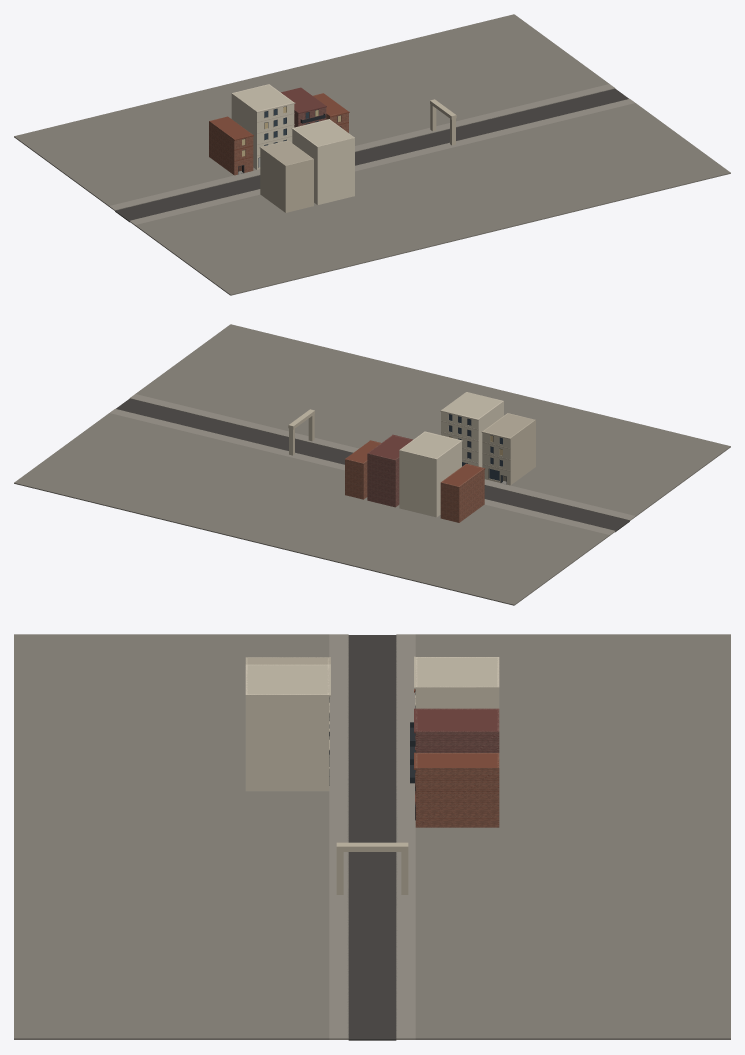
Rendered from nyc-street.glb.
3 renders of one model, top to bottom at view 1: azimuth 30°, elevation 25°; view 2: azimuth 150°, elevation 25°; view 3: azimuth 270°, elevation 25°, orthographic. The views are drawn at different scales.
Parts seen in each view (by area): view 1: ground.yard.s, ground.yard.n, ground.road, bld.6.ivoryA, ground.walk.n, bld.5.ivoryB, ground.walk.s, bld.2.ivoryA, bld.1.brickA, bld.2.ivoryATrim, bld.6.ivoryATrim, bld.5.ivoryBTrim (+3 smaller); view 2: ground.yard.n, ground.yard.s, ground.road, bld.2.ivoryA, ground.walk.s, bld.5.ivoryB, ground.walk.n, bld.1.brickA, bld.6.ivoryA, bld.3.brickB, bld.6.ivoryATrim, bld.2.ivoryATrim (+4 smaller); view 3: ground.yard.s, ground.yard.n, ground.road, bld.6.ivoryA, ground.walk.s, ground.walk.n, bld.4.brickA, bld.6.ivoryATrim, bld.2.ivoryATrim, bld.3.brickB, bld.2.ivoryA, bld.3.brickBTrim (+2 smaller).
Part boxes in pixels (box(x1,y1,x2,y2)): ground.yard.s: box(135, 103, 730, 295); ground.yard.n: box(14, 14, 609, 206); ground.road: box(115, 88, 628, 222); bld.6.ivoryA: box(292, 119, 354, 205); ground.walk.n: box(109, 84, 615, 210); bld.5.ivoryB: box(260, 140, 313, 212); ground.walk.s: box(129, 99, 634, 225); bld.2.ivoryA: box(231, 84, 294, 169); bld.1.brickA: box(209, 117, 253, 175); bld.2.ivoryATrim: box(233, 84, 295, 168); bld.6.ivoryATrim: box(291, 119, 353, 146); bld.5.ivoryBTrim: box(259, 140, 312, 165); ground.yard.n: box(14, 413, 609, 605); ground.yard.s: box(135, 324, 730, 516); ground.road: box(116, 398, 629, 532); bld.2.ivoryA: box(399, 431, 461, 517); ground.walk.s: box(129, 394, 635, 520); bld.5.ivoryB: box(482, 413, 535, 485); ground.walk.n: box(110, 409, 615, 535); bld.1.brickA: box(440, 464, 484, 522); bld.6.ivoryA: box(441, 392, 503, 467); bld.3.brickB: box(367, 435, 412, 507); bld.6.ivoryATrim: box(440, 392, 501, 463); bld.2.ivoryATrim: box(400, 431, 462, 458); ground.yard.s: box(14, 634, 329, 1039); ground.yard.n: box(415, 634, 730, 1039); ground.road: box(348, 635, 396, 1040); bld.6.ivoryA: box(245, 664, 329, 791); ground.walk.s: box(329, 634, 348, 1039); ground.walk.n: box(396, 634, 415, 1039); bld.4.brickA: box(415, 753, 499, 827); bld.6.ivoryATrim: box(245, 664, 330, 785); bld.2.ivoryATrim: box(414, 656, 499, 705); bld.3.brickB: box(415, 708, 499, 752); bld.2.ivoryA: box(415, 657, 499, 708); bld.3.brickBTrim: box(414, 708, 498, 801).
Bounding box in the file's own units: 160 × 18.25 × 120.
Materials: 18 (2 with a texture image).
